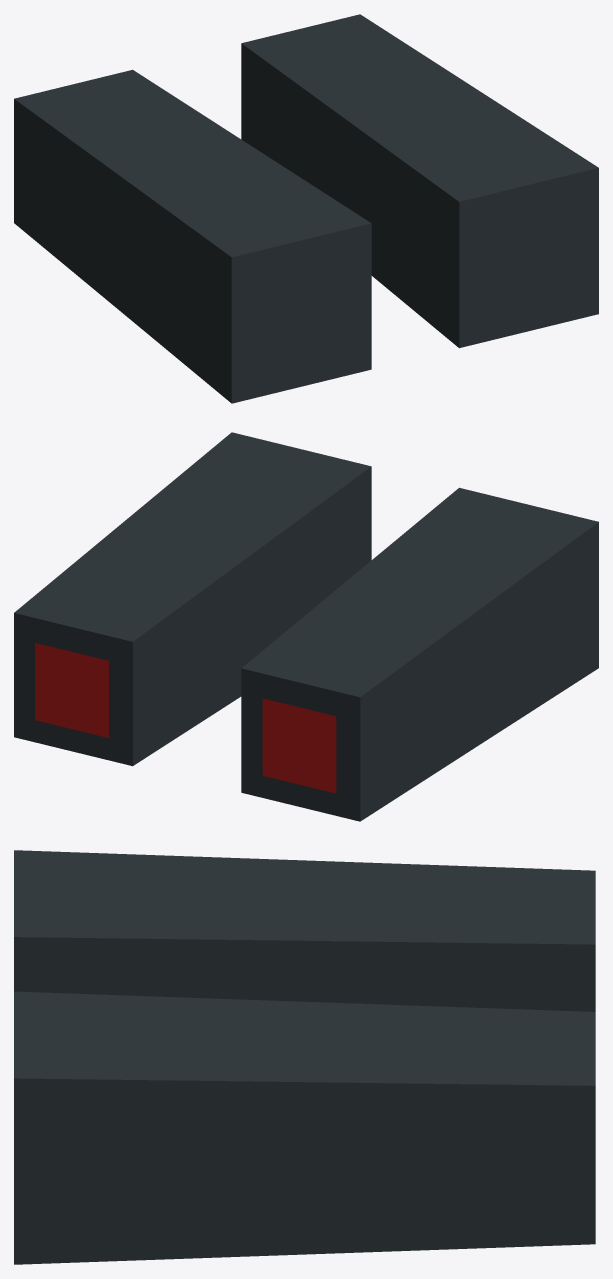
The picture shows the model from 3 angles, top to bottom: view 1: azimuth 30°, elevation 25°; view 2: azimuth 150°, elevation 25°; view 3: azimuth 270°, elevation 25°; orthographic projection. The views are drawn at different scales.
Parts seen in each view (by area): view 1: mount; view 2: mount; view 3: mount.
Part boxes in pixels (<box>): mount: <box>14,14,598,403</box>; mount: <box>14,432,598,821</box>; mount: <box>14,850,595,1264</box>.
Bounding box in the file's own units: 4.83 × 1.84 × 5.23.
